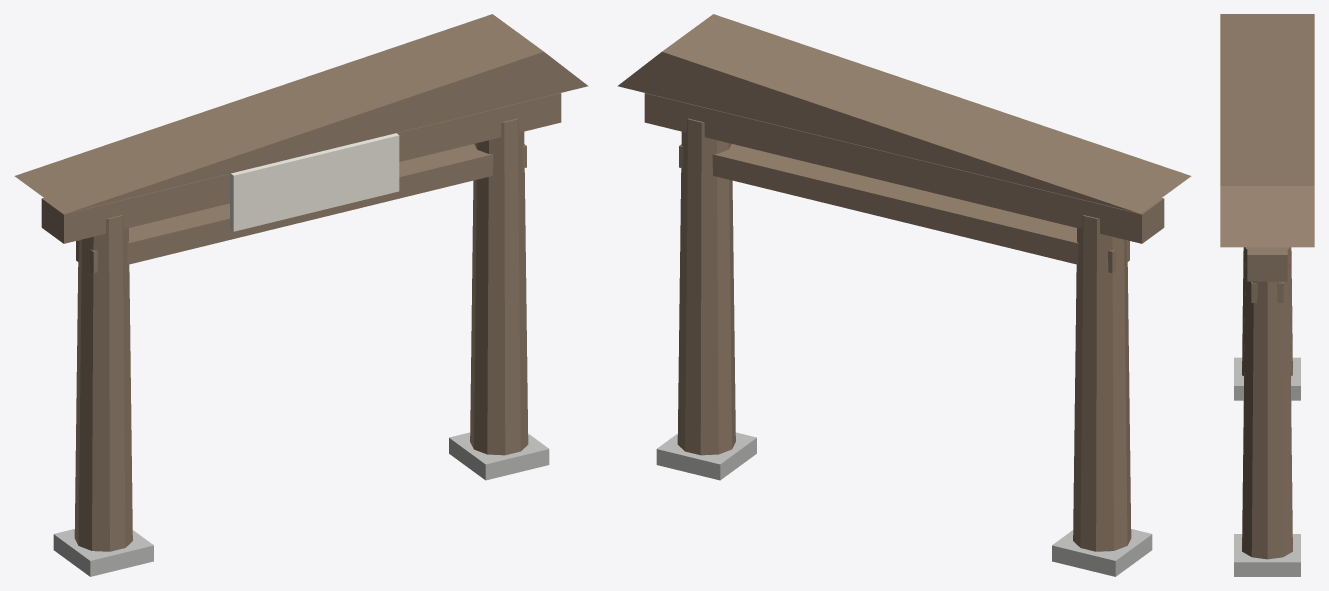
The model's file is martial-arts-dojo-and-fight-stages-dojo-gate-fb12cce6__18070.glb.
The picture shows the model from 3 angles, left to right: view 1: azimuth 30°, elevation 25°; view 2: azimuth 150°, elevation 25°; view 3: azimuth 270°, elevation 25°; orthographic projection. The views are drawn at different scales.
Visible parts, largest first — view 1: dojo-gate; view 2: dojo-gate; view 3: dojo-gate.
Boxes of the visible parts, <box> form: dojo-gate: <box>14,14,588,576</box>; dojo-gate: <box>617,14,1191,576</box>; dojo-gate: <box>1220,14,1314,576</box>.
Bounding box in the file's own units: 4.1 × 3.16 × 0.6997.
